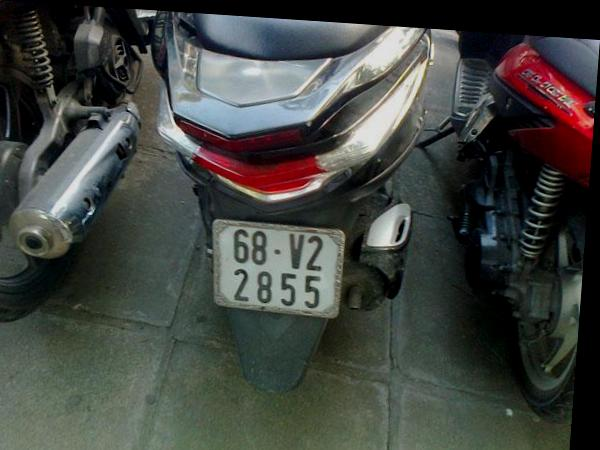License_Plate: (207, 216, 351, 318)
